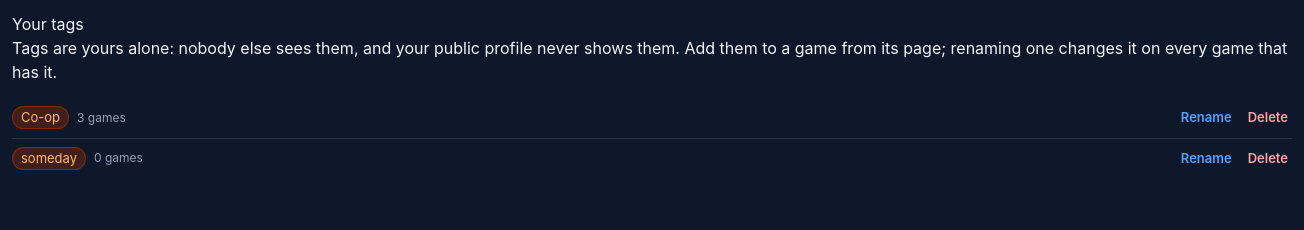
it: TagsCard renaming › opens a box holding the name, with the focus in it
The width and height of the screenshot is (1304, 230).
Click the button with aria-label "Rename Co-op": (1206, 118) [1177,106,1236,130]
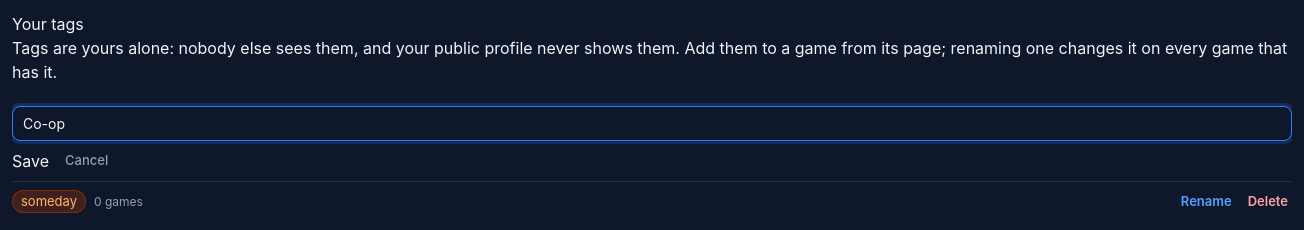
Expected: the field named "New name for Co-op" holds "Co-op", [12,106,1292,141]
